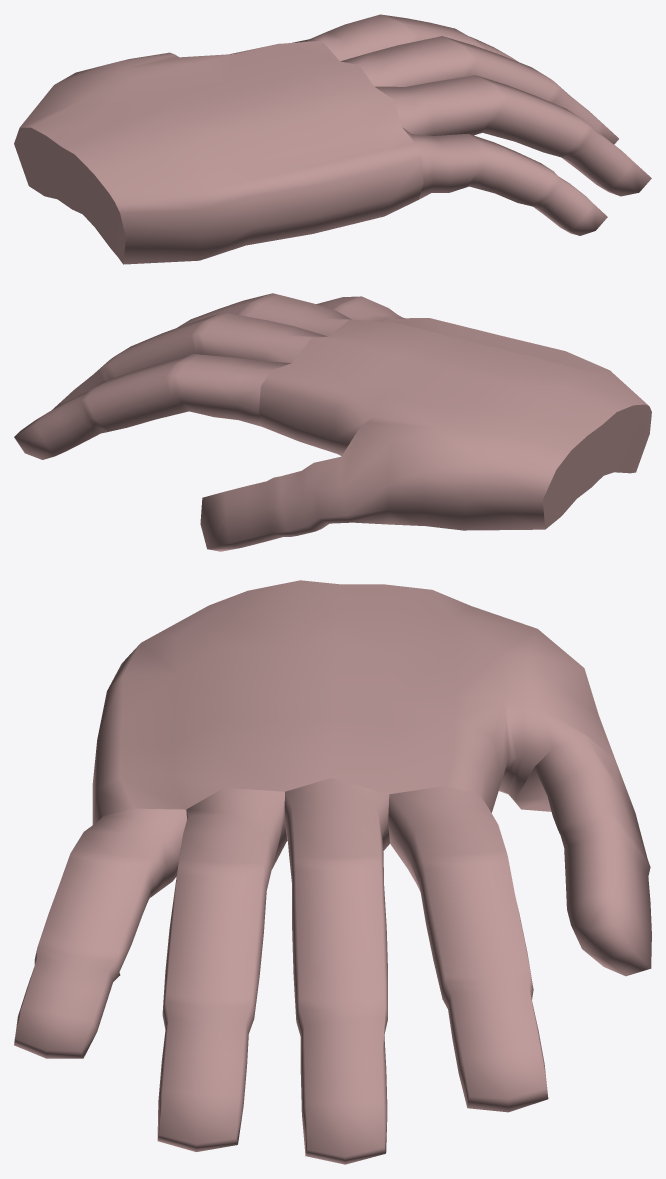
Rendered from right_hand.glb.
3 views of the same model, one above another, from view 1: azimuth 30°, elevation 25°; view 2: azimuth 150°, elevation 25°; view 3: azimuth 270°, elevation 25° (orthographic). The views are drawn at different scales.
Visible parts, largest first — view 1: Object_2; view 2: Object_2; view 3: Object_2.
Boxes of the visible parts, <box> form: Object_2: <box>14,14,651,264</box>; Object_2: <box>14,293,651,551</box>; Object_2: <box>14,580,651,1164</box>.
Bounding box in the file's own units: 52.08 × 13.48 × 35.49.
